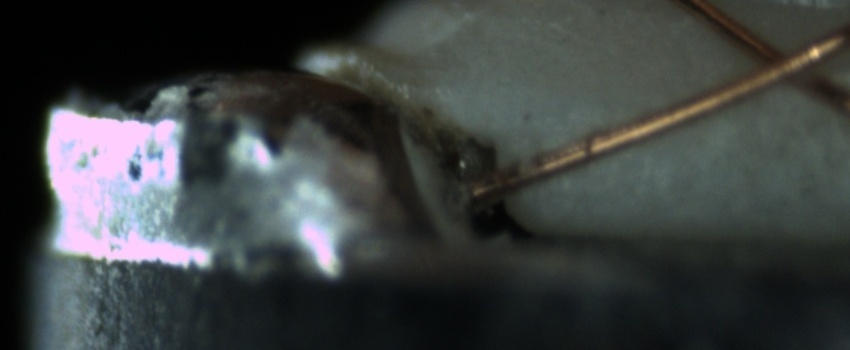CL: (728, 26, 830, 98)
